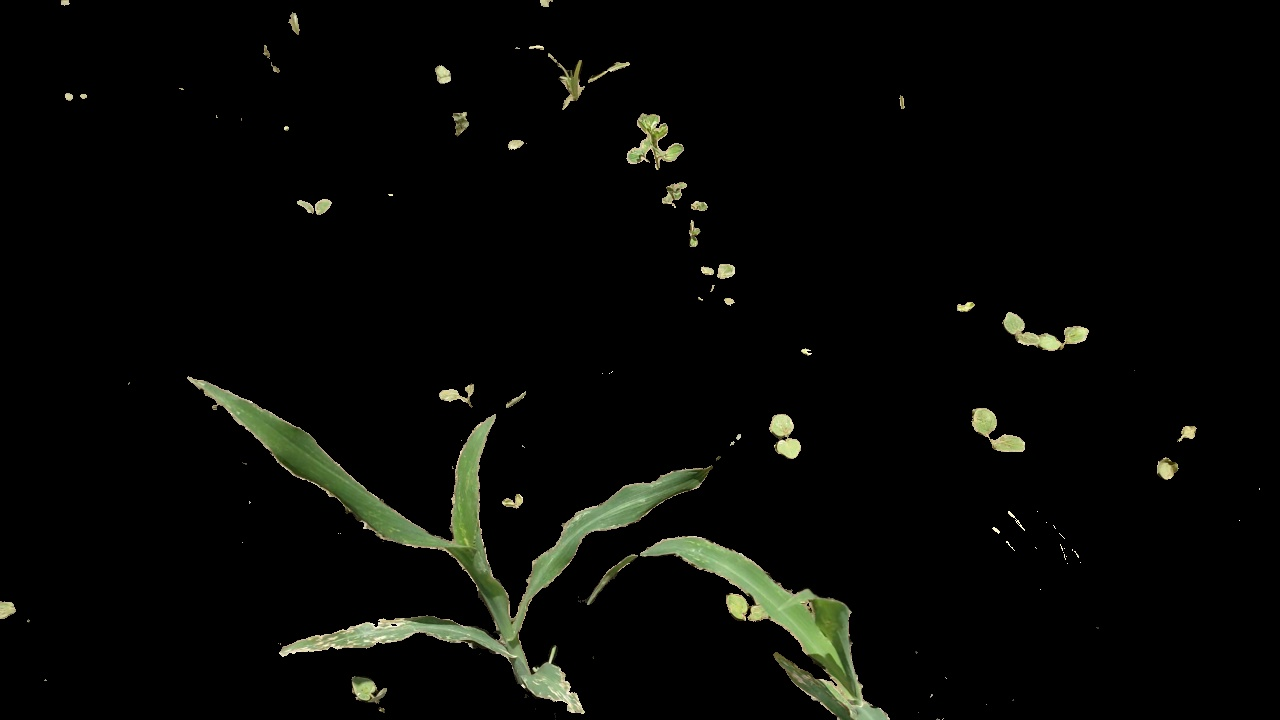crop: (192, 377, 606, 720), (596, 524, 888, 720)
weed: (613, 105, 693, 174), (988, 308, 1096, 359), (968, 399, 1032, 462), (1156, 411, 1199, 489), (332, 674, 398, 712), (768, 405, 808, 464), (695, 252, 743, 291), (432, 379, 478, 414), (653, 183, 690, 220), (289, 198, 341, 219)
